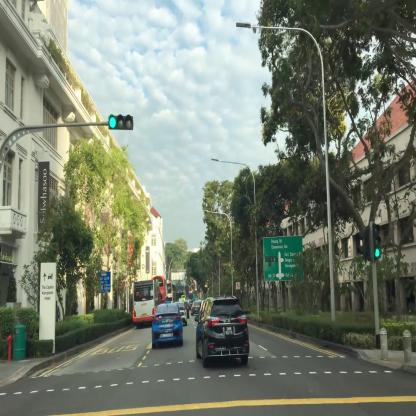green_traffic_light: (108, 115, 132, 130), (372, 224, 380, 259)
